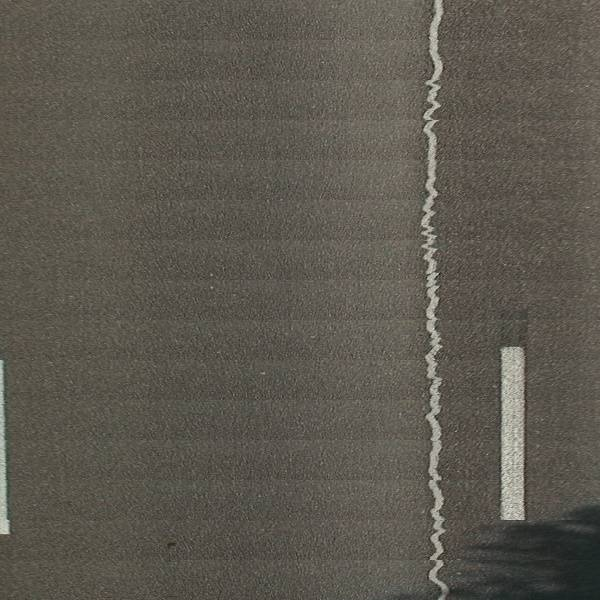road_damage: (417, 8, 452, 600)
